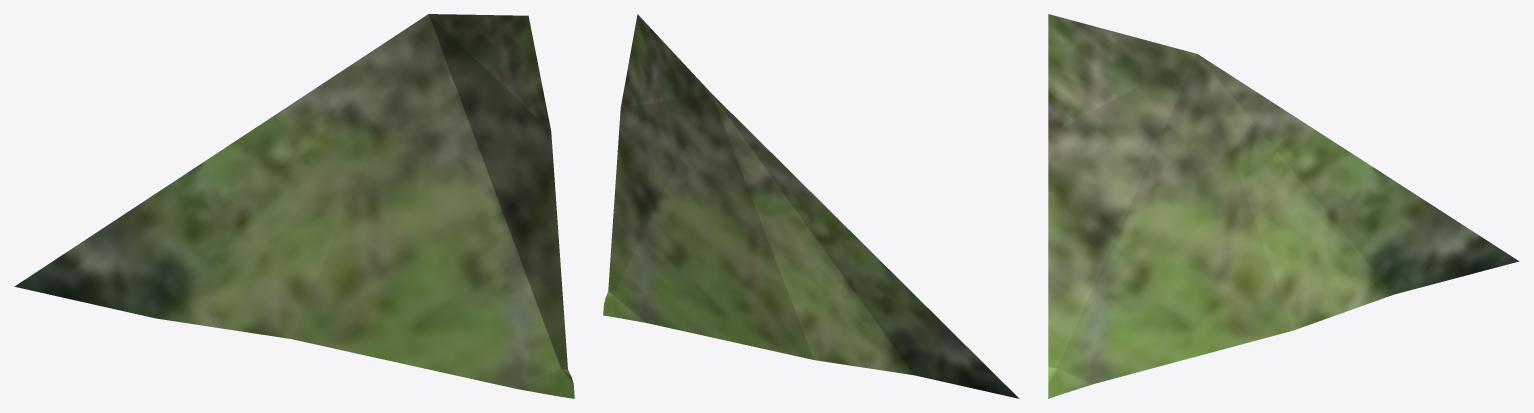
3 views of the same model, side by side, from view 1: azimuth 30°, elevation 25°; view 2: azimuth 210°, elevation 25°; view 3: azimuth 270°, elevation 25° (orthographic). The views are drawn at different scales.
Bounding box in the file's own units: 5.89 × 7.27 × 8.53.
1 material, 1 textured.
